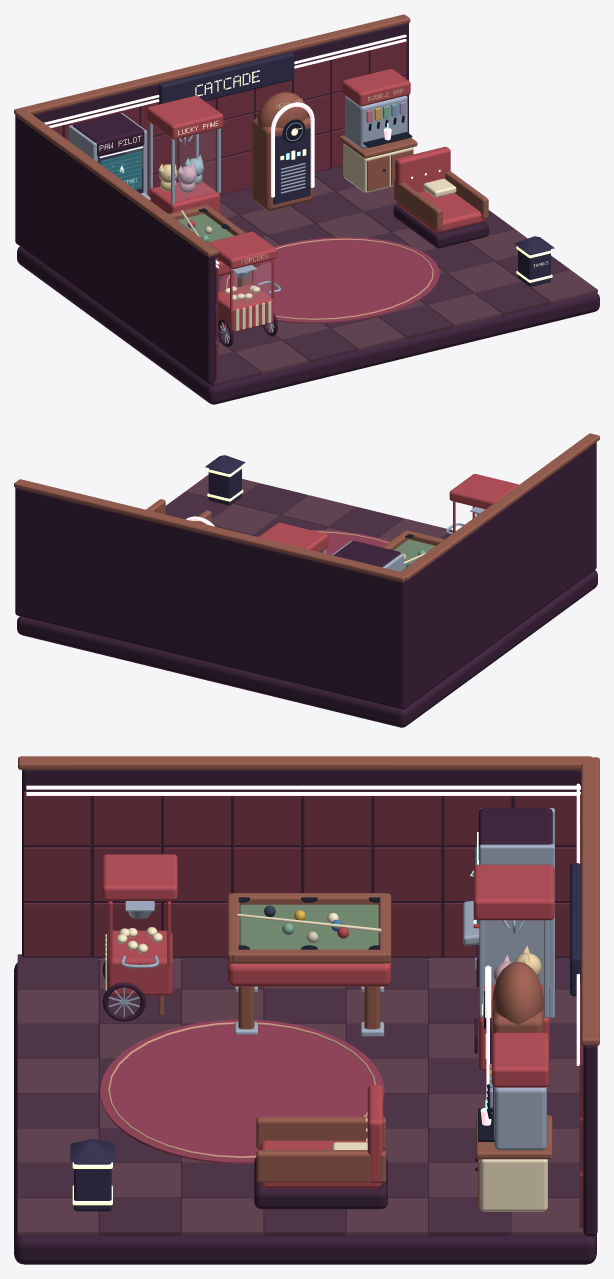
File: arcade.glb
3 renders of one model, top to bottom at view 1: azimuth 30°, elevation 25°; view 2: azimuth 150°, elevation 25°; view 3: azimuth 270°, elevation 25°, orthographic. The views are drawn at different scales.
Visible parts, largest first — view 1: Static_Retro_Catcade (×4), FloorTiles (×2), ArcadeCarpet, Static_Prop_booth (×2), Static_Prop_claw (×2), Static_Prop_popcorn (×2), Static_Prop_jukebox (×2), SignBox, Static_Prop_arcade (×2), Static_Prop_drinks (×2), PrizeGlass, Dispenser (+9 smaller); view 2: Static_Retro_Catcade (×2), FloorTiles (×2), Static_Prop_popcorn, Static_Prop_claw, Static_Prop_arcade, RecycleBin, ArcadeCarpet, Static_Prop_pool, PoolFelt, BinLid; view 3: Static_Retro_Catcade (×4), FloorTiles (×2), ArcadeCarpet, Static_Prop_booth (×2), Static_Prop_arcade (×2), Static_Prop_popcorn (×2), Static_Prop_pool, Static_Prop_claw (×2), PoolFelt, Static_Prop_drinks (×2), PoolBody, Dispenser (+7 smaller).
Part boxes in pixels (x1,y1,x2,y2): Static_Retro_Catcade (×4): (14,14,599,404); FloorTiles (×2): (211,165,597,386); ArcadeCarpet: (220,237,439,323); Static_Prop_booth (×2): (394,146,488,233); Static_Prop_claw (×2): (146,95,223,213); Static_Prop_popcorn (×2): (208,231,277,332); Static_Prop_jukebox (×2): (252,92,314,210); SignBox: (158,52,294,104); Static_Prop_arcade (×2): (68,113,150,200); Static_Prop_drinks (×2): (339,89,417,192); PrizeGlass: (175,130,217,200); Dispenser: (345,95,407,148); Static_Retro_Catcade (×2): (14,433,599,727); FloorTiles (×2): (165,474,452,541); Static_Prop_popcorn: (449,474,518,532); Static_Prop_claw: (258,522,328,552); Static_Prop_arcade: (333,541,400,567); RecycleBin: (208,465,241,505); ArcadeCarpet: (256,530,390,554); Static_Prop_pool: (382,530,444,550); PoolFelt: (394,539,435,568); BinLid: (205,455,245,473); Static_Retro_Catcade (×4): (14,756,599,1264); FloorTiles (×2): (17,954,585,1235); ArcadeCarpet: (100,1019,384,1164); Static_Prop_booth (×2): (256,1084,385,1188); Static_Prop_arcade (×2): (463,808,554,1018); Static_Prop_popcorn (×2): (102,854,177,1021); Static_Prop_pool: (227,893,391,1029); Static_Prop_claw (×2): (473,864,554,1071); PoolFelt: (240,904,378,949); Static_Prop_drinks (×2): (476,1115,552,1211); PoolBody: (227,960,391,986); Dispenser: (494,1087,546,1150).
Bounding box in the file's own units: 8.53 × 3.2 × 7.44.
